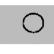no answer: (17, 11, 46, 33)
